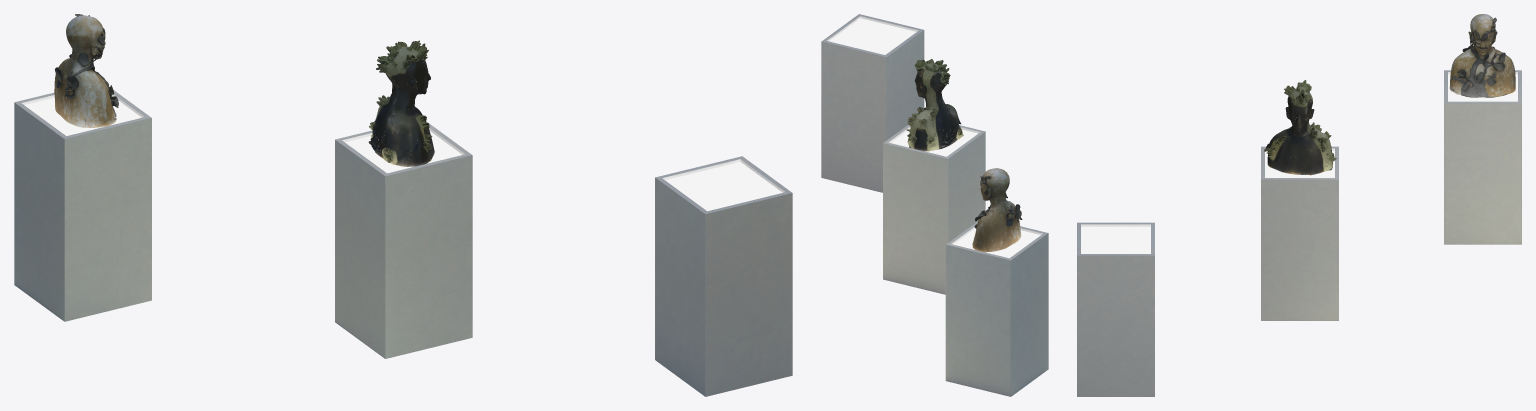
File: StatueFix_LOD1.glb
3 renders of one model, left to right at view 1: azimuth 30°, elevation 25°; view 2: azimuth 150°, elevation 25°; view 3: azimuth 270°, elevation 25°, orthographic. The views are drawn at different scales.
Parts seen in each view (by area): view 1: Statue Place.001_LOD1; view 2: Statue Place.001_LOD1; view 3: Statue Place.001_LOD1.
Boxes of the visible parts, x1=… form: Statue Place.001_LOD1: x1=14, y1=14, x2=792, y2=396; Statue Place.001_LOD1: x1=821, y1=14, x2=1048, y2=396; Statue Place.001_LOD1: x1=1077, y1=14, x2=1521, y2=396.
Bounding box in the file's own units: 3.38 × 1.87 × 3.42.
2 materials, 2 textured.
